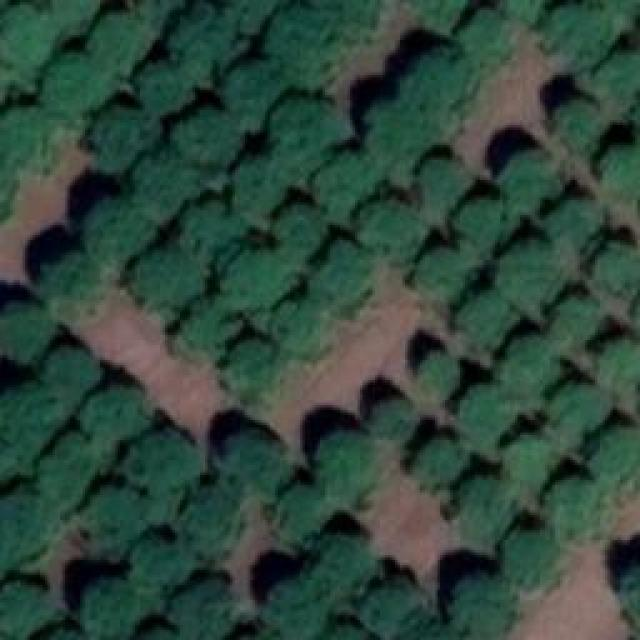Tree: (162, 0, 245, 86), (122, 435, 204, 510), (365, 92, 450, 163), (263, 10, 338, 89), (542, 3, 640, 63), (3, 386, 66, 478), (43, 435, 117, 509), (403, 48, 475, 123), (80, 485, 152, 556), (133, 248, 207, 316), (267, 100, 337, 169), (305, 535, 376, 602), (128, 43, 193, 116), (310, 150, 377, 220), (90, 203, 158, 271), (213, 432, 291, 491), (442, 573, 514, 635), (178, 487, 240, 559), (353, 193, 419, 260), (230, 253, 296, 319), (133, 538, 197, 606), (215, 60, 284, 122), (167, 577, 234, 640), (0, 0, 58, 70), (0, 485, 48, 569), (368, 575, 430, 639), (85, 383, 150, 444), (497, 233, 556, 300), (133, 158, 195, 221), (180, 103, 244, 164), (80, 580, 145, 640), (318, 428, 377, 494), (85, 15, 154, 70), (460, 475, 519, 538), (183, 205, 243, 266), (50, 55, 110, 115), (93, 112, 155, 170), (0, 298, 54, 364), (3, 110, 66, 166), (232, 155, 290, 214), (547, 475, 604, 535), (282, 300, 340, 358), (304, 0, 384, 42), (186, 298, 240, 359), (315, 250, 377, 303), (592, 132, 640, 200), (265, 575, 324, 630), (463, 8, 529, 57), (44, 348, 96, 408), (415, 155, 476, 206), (507, 518, 553, 585), (553, 290, 605, 349), (0, 575, 46, 639), (45, 260, 105, 309), (550, 103, 607, 154), (460, 390, 512, 445), (228, 345, 282, 397), (504, 153, 556, 204), (592, 430, 640, 485), (460, 194, 508, 248), (553, 385, 605, 434), (460, 295, 517, 339), (505, 433, 557, 481), (592, 240, 640, 290), (275, 483, 322, 534), (425, 253, 481, 295), (280, 208, 326, 259), (507, 335, 553, 384), (212, 0, 281, 32), (417, 437, 462, 484), (35, 0, 100, 32), (598, 58, 640, 105), (600, 330, 640, 379), (370, 392, 410, 438), (553, 205, 600, 243), (120, 0, 189, 25), (0, 52, 33, 96), (418, 353, 458, 388), (617, 565, 639, 622), (418, 0, 480, 18), (508, 0, 551, 25), (40, 620, 86, 640), (3, 168, 16, 228), (135, 625, 182, 640), (408, 625, 451, 640), (333, 632, 376, 640), (243, 630, 272, 640)
